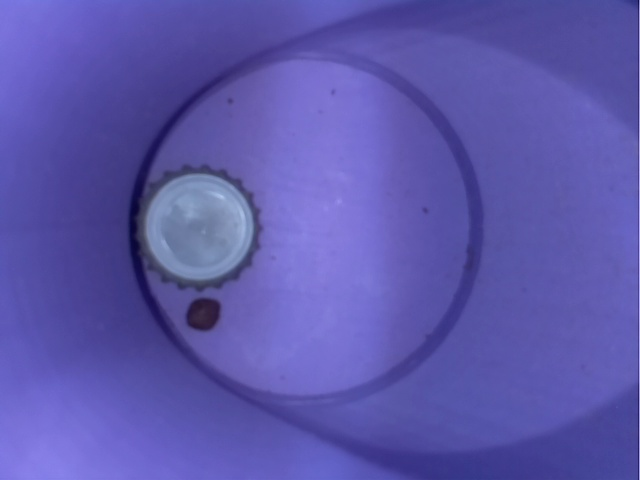capsule: (126, 157, 273, 292)
croquette: (178, 293, 236, 333)
